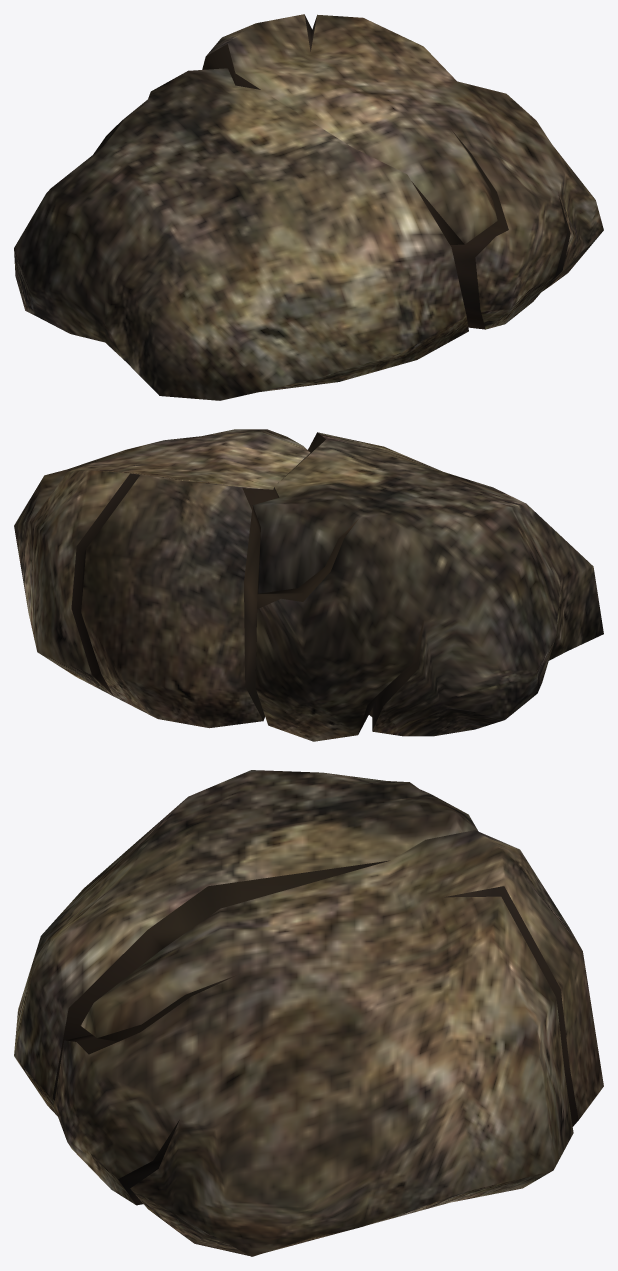
File: M23_rock01.fbx
3 renders of one model, top to bottom at view 1: azimuth 30°, elevation 25°; view 2: azimuth 150°, elevation 25°; view 3: azimuth 270°, elevation 25°, orthographic. The views are drawn at different scales.
Visible parts, largest first — view 1: M23_rock01; view 2: M23_rock01; view 3: M23_rock01.
Part boxes in pixels (x1,y1,x2,y2): M23_rock01: (14,14,603,400); M23_rock01: (14,429,603,741); M23_rock01: (14,770,603,1256).
Bounding box in the file's own units: 25 × 10.79 × 18.96.
